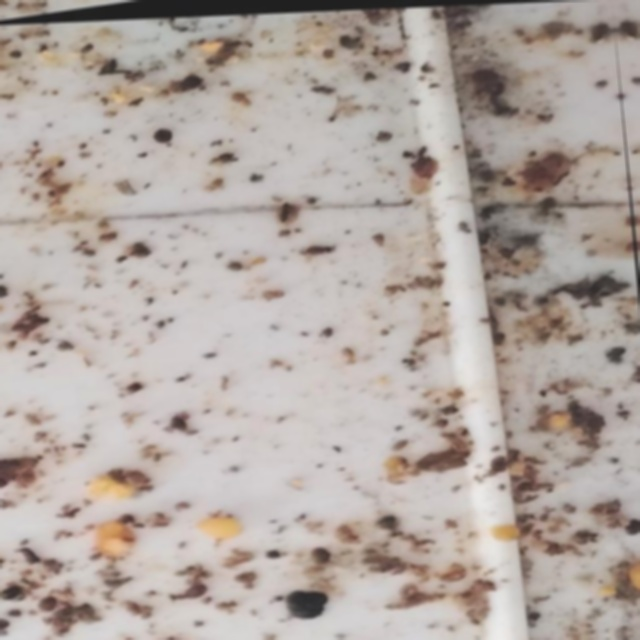varroa: (177, 577, 212, 602), (309, 541, 335, 565), (148, 124, 174, 146), (180, 70, 206, 92), (599, 337, 630, 355), (34, 594, 59, 616)
